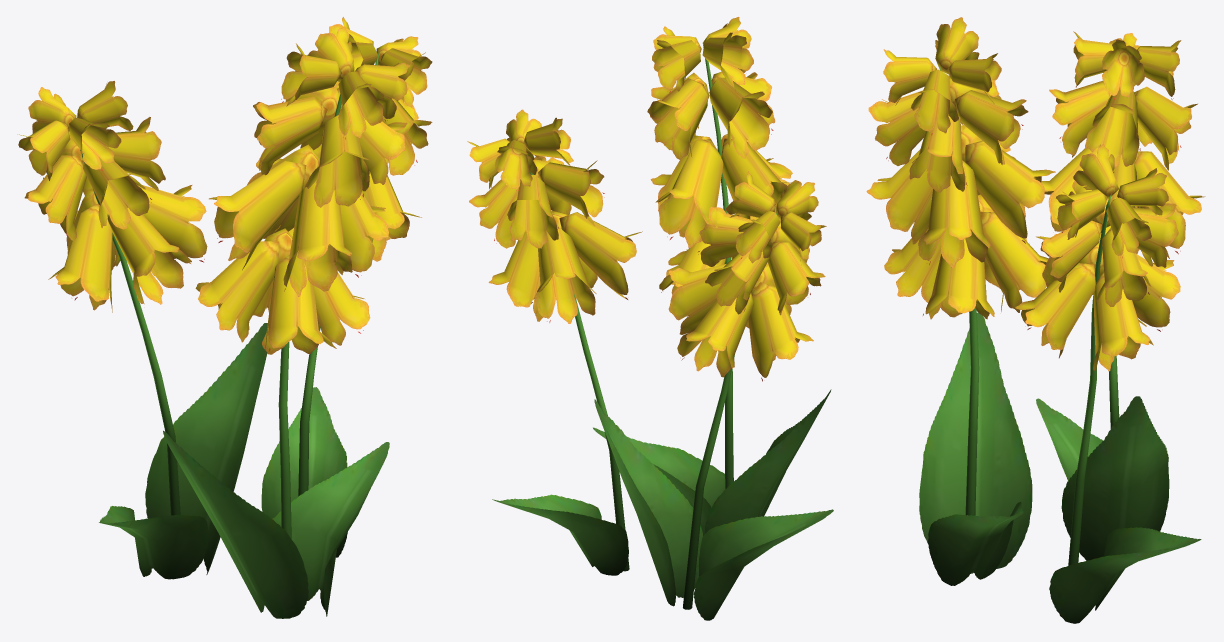
File: sn_flower_4_group.glb
3 views of the same model, side by side, from view 1: azimuth 30°, elevation 25°; view 2: azimuth 150°, elevation 25°; view 3: azimuth 270°, elevation 25° (orthographic). The views are drawn at different scales.
Parts seen in each view (by area): view 1: Flower_4_Group; view 2: Flower_4_Group; view 3: Flower_4_Group.
Part boxes in pixels (x1,y1,x2,y2): Flower_4_Group: (17,17,432,618); Flower_4_Group: (467,17,833,620); Flower_4_Group: (866,17,1205,623).
Size of the model in its own units: 1.78 by 2.49 by 1.37.
Materials: 2 (2 with a texture image).
